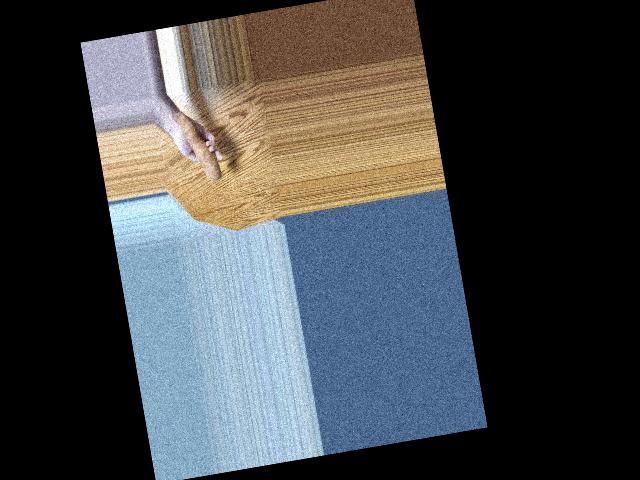sweet_potato: (173, 106, 217, 183)
